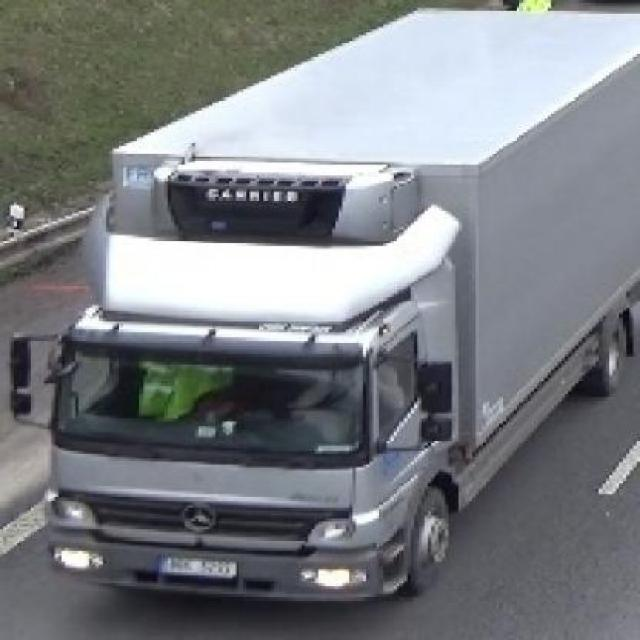truck: (18, 9, 640, 601)
